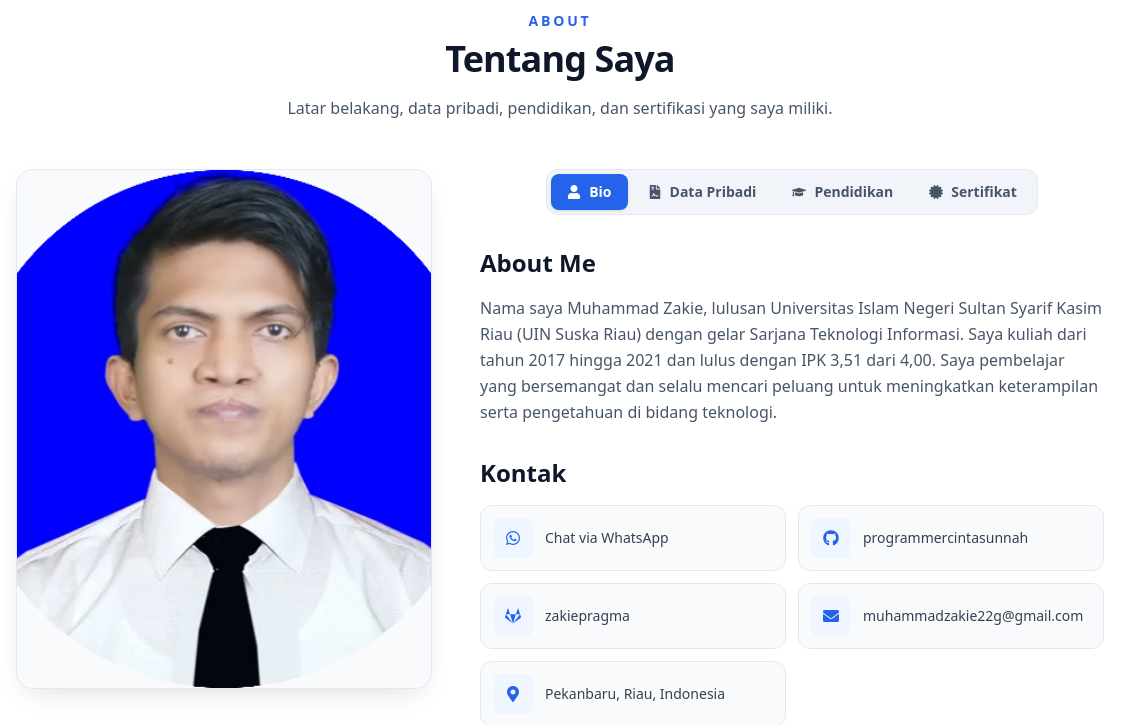
Scenario: About › switches to the personal data tab
The width and height of the screenshot is (1121, 725).
Click the tab "Data Pribadi".
click(702, 192)  # box [632,174,772,210]
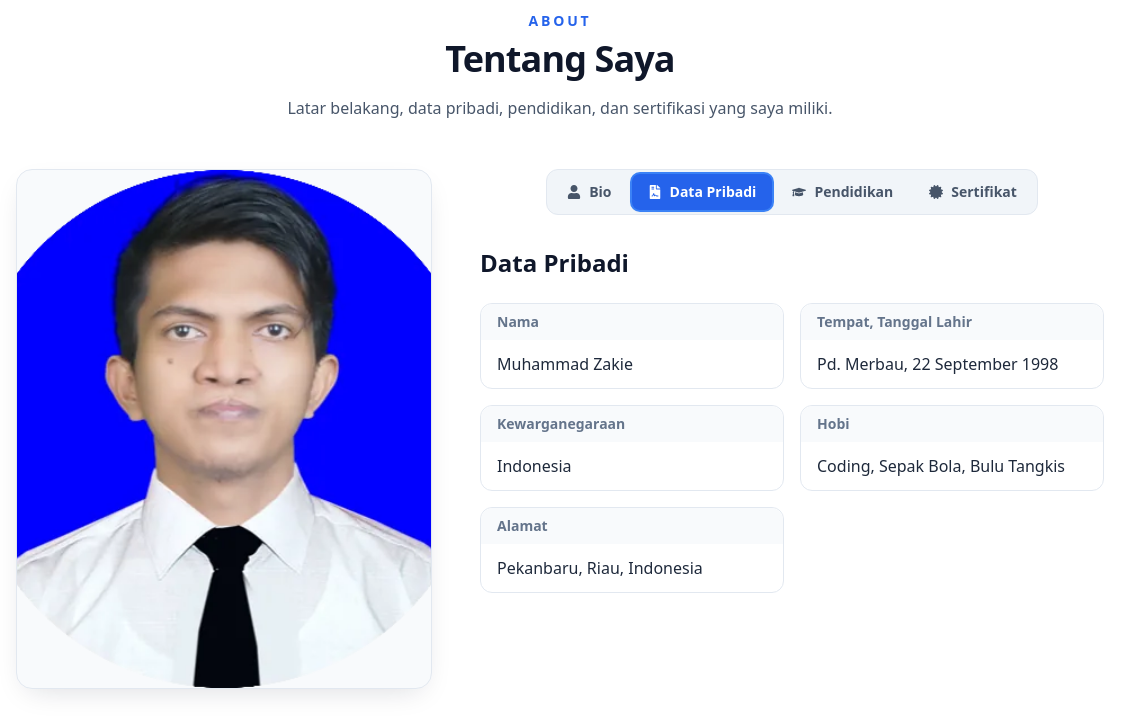
Expected: the heading "Data Pribadi" is shown, [480,246,629,279]
Expected: the text "Tempat, Tanggal Lahir" is shown, [801,304,1103,340]
Expected: the text "Pd. Merbau, 22 September 1998" is shown, [817,353,1058,375]
